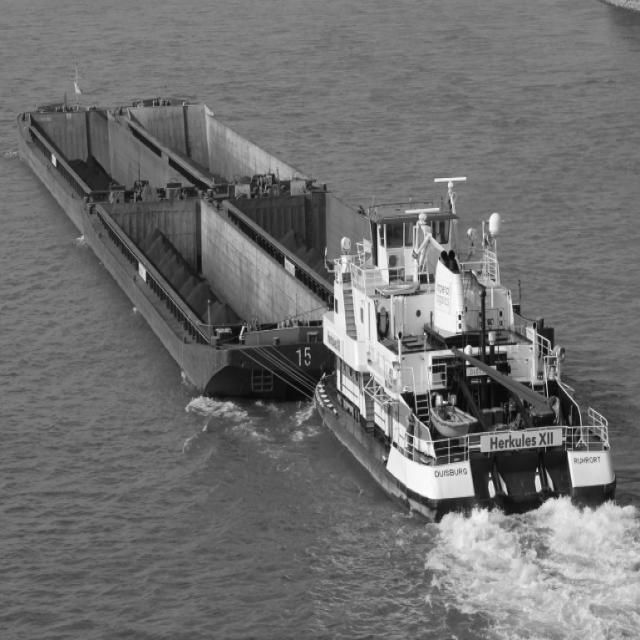tugboat: (312, 174, 621, 539)
